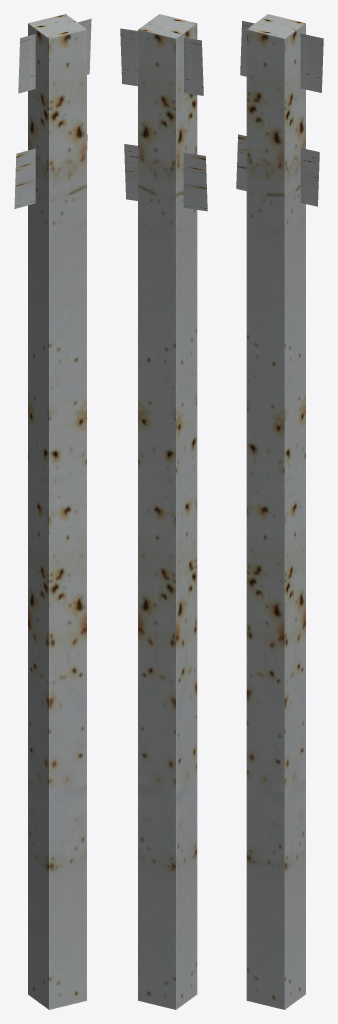
The model's file is metalPole_1.obj.
3 renders of one model, left to right at view 1: azimuth 30°, elevation 25°; view 2: azimuth 150°, elevation 25°; view 3: azimuth 330°, elevation 25°, orthographic.
Parts seen in each view (by area): view 1: metalPole_1; view 2: metalPole_1; view 3: metalPole_1.
Part boxes in pixels (bbox=[...]): metalPole_1: bbox=[14, 14, 91, 1009]; metalPole_1: bbox=[120, 14, 207, 1009]; metalPole_1: bbox=[236, 14, 323, 1009].
Bounding box in the file's own units: 0.071 × 0.8 × 0.0317.
1 material, 1 textured.
